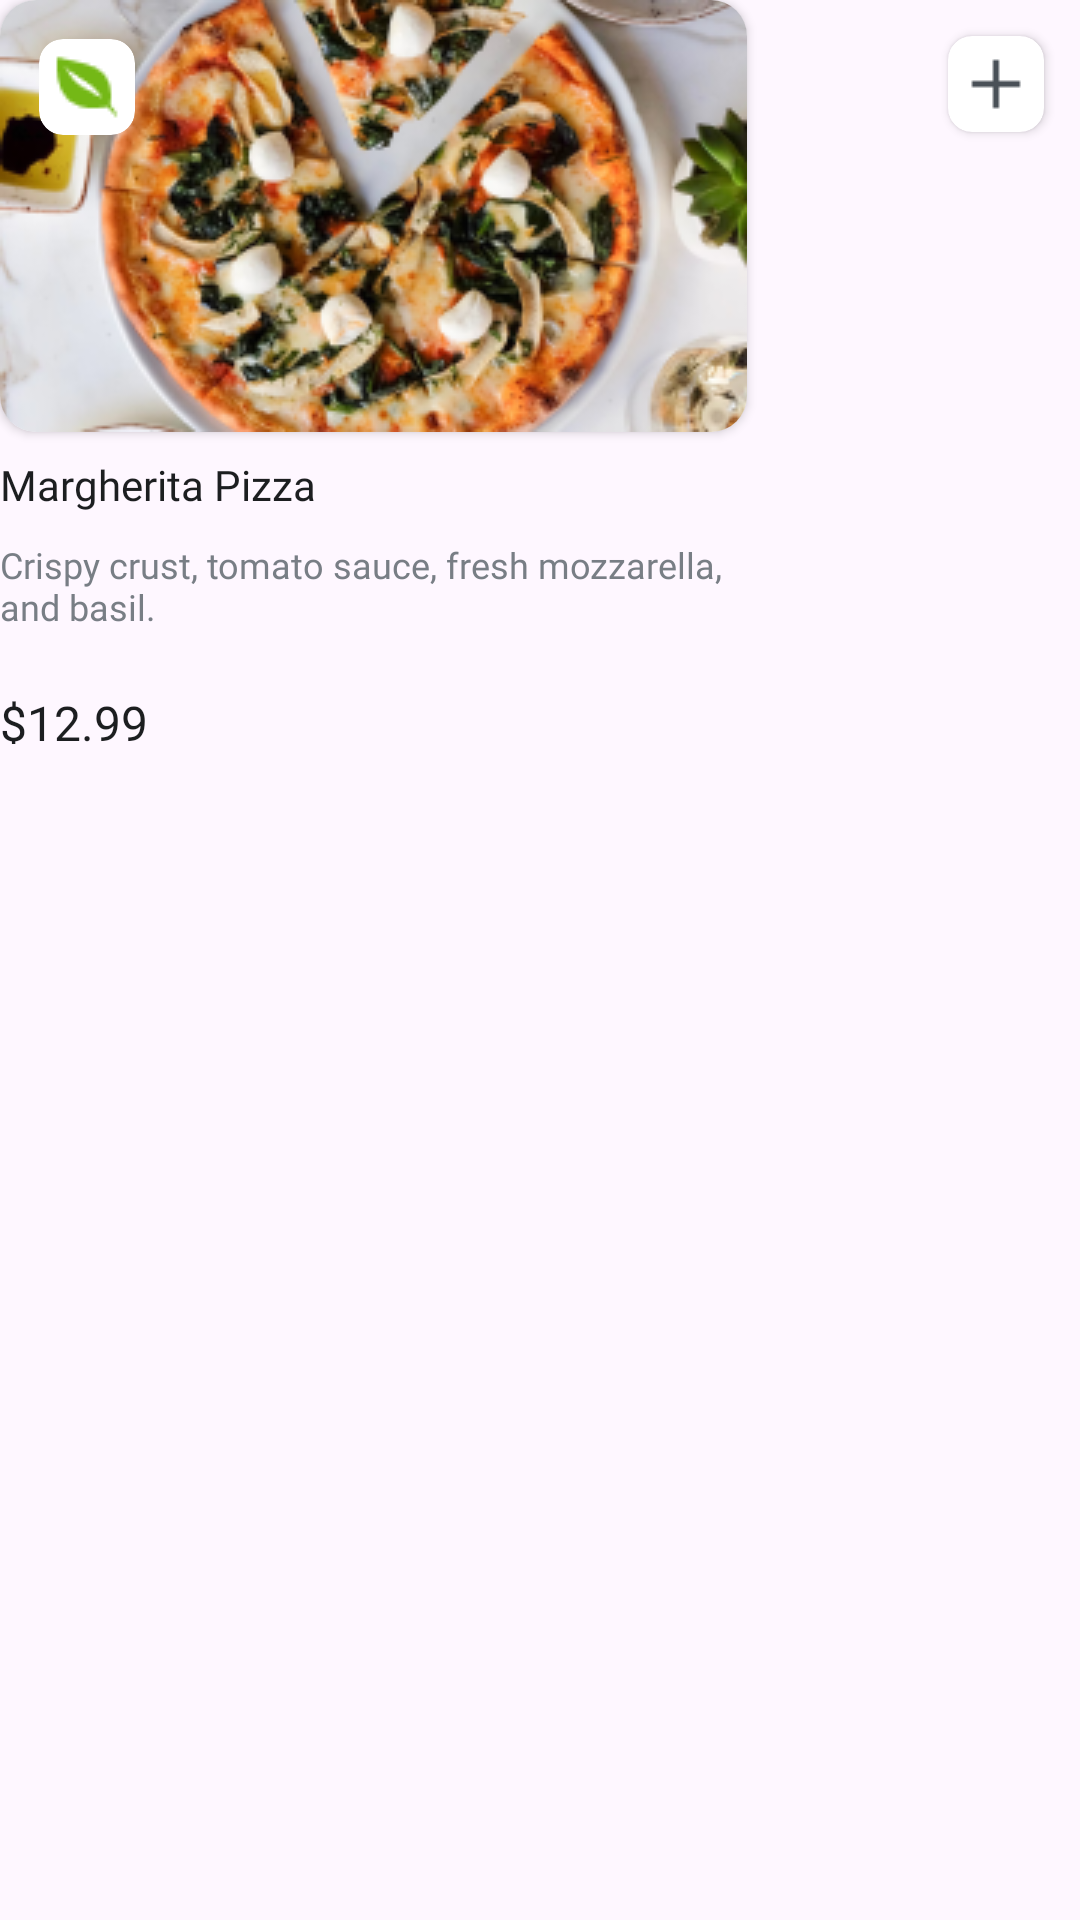

Icon click points for this 1080 x 1920 phone screenshot, format (x,y):
add: (996,84)
